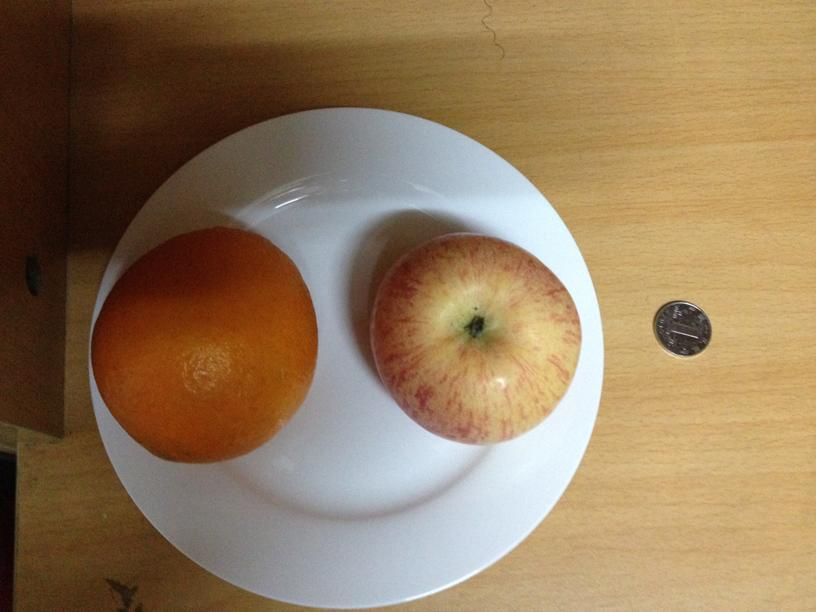apple: (366, 236, 580, 444)
coin: (653, 301, 712, 357)
orange: (89, 236, 319, 464)
